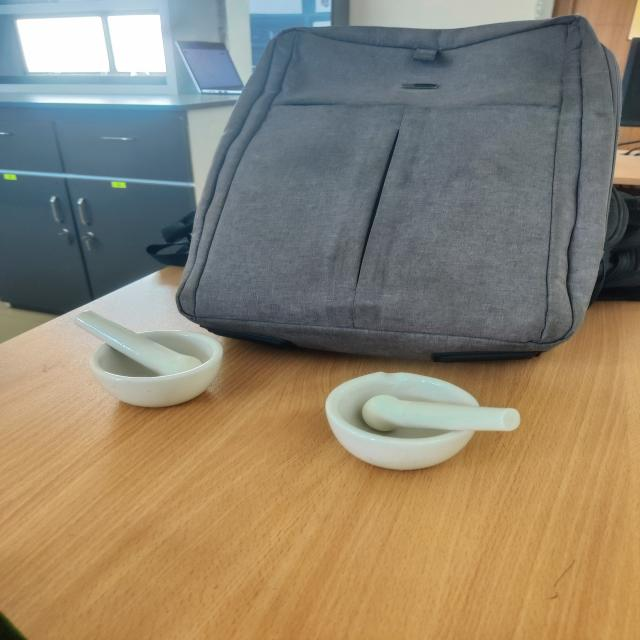Porcelain_Mortar Pestle: (301, 356, 572, 487), (20, 293, 251, 422)
